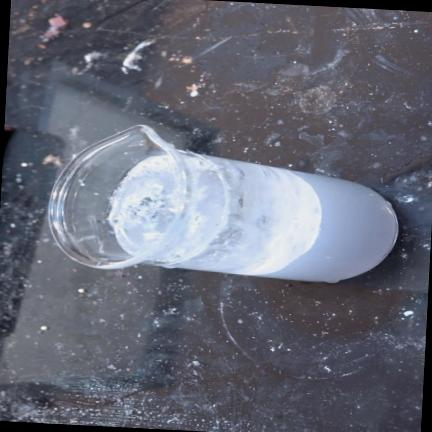container: (48, 124, 397, 282)
fluid: (162, 152, 397, 282)
fluid-surface: (111, 152, 227, 265)
